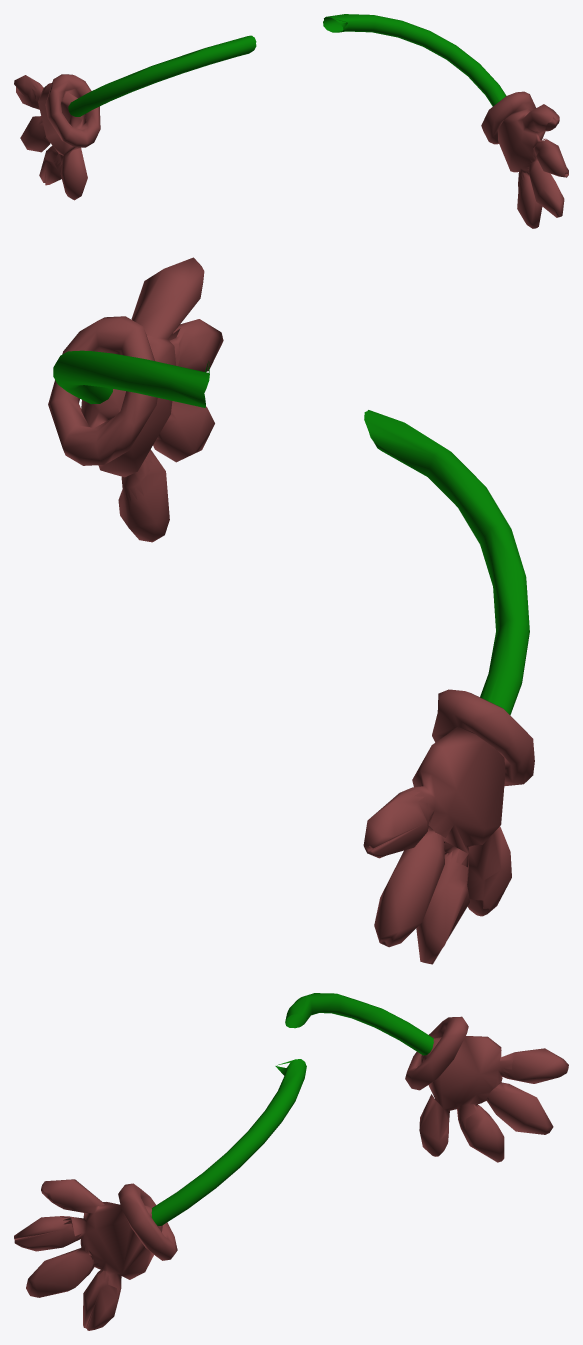
The model's file is rece2.obj.
3 renders of one model, top to bottom at view 1: azimuth 30°, elevation 25°; view 2: azimuth 150°, elevation 25°; view 3: azimuth 270°, elevation 25°, orthographic. The views are drawn at different scales.
Parts seen in each view (by area): view 1: Rece, DlonPrawa1, DlonLewa1, DlonLewa2, DlonPrawa2; view 2: Rece, DlonPrawa1, DlonLewa1, DlonPrawa2, DlonLewa2; view 3: Rece, DlonPrawa1, DlonLewa1, DlonLewa2, DlonPrawa2.
Boxes of the visible parts, bbox=[...] form: Rece: bbox=[68, 14, 506, 116]; DlonPrawa1: bbox=[32, 74, 100, 200]; DlonLewa1: bbox=[481, 91, 559, 182]; DlonLewa2: bbox=[517, 120, 568, 228]; DlonPrawa2: bbox=[14, 75, 61, 185]; Rece: bbox=[53, 350, 529, 715]; DlonPrawa1: bbox=[405, 689, 534, 913]; DlonLewa1: bbox=[48, 257, 204, 500]; DlonPrawa2: bbox=[363, 788, 489, 964]; DlonLewa2: bbox=[118, 319, 223, 542]; Rece: bbox=[151, 993, 433, 1225]; DlonPrawa1: bbox=[405, 1016, 522, 1156]; DlonLewa1: bbox=[42, 1179, 177, 1297]; DlonLewa2: bbox=[14, 1185, 119, 1330]; DlonPrawa2: bbox=[459, 1048, 568, 1162].
Size of the model in its own units: 1.17 by 0.5777 by 1.35.
